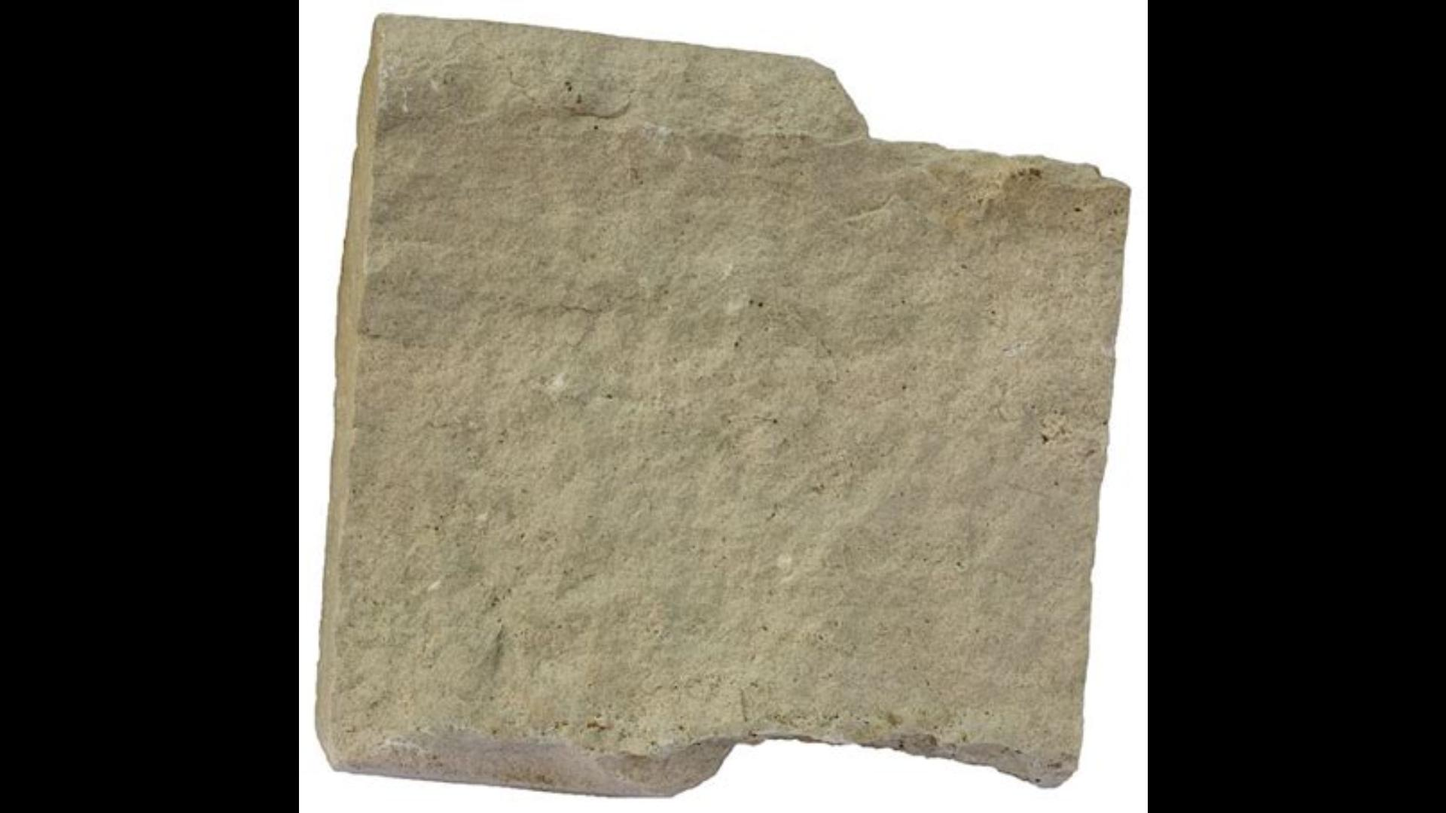rock: (330, 16, 1126, 793)
